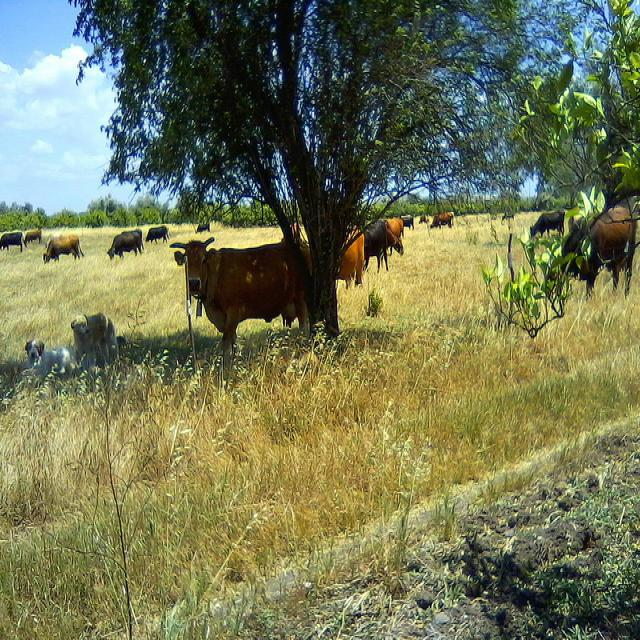cow: (288, 184, 638, 319), (167, 235, 302, 349), (333, 232, 364, 284), (362, 219, 387, 269), (106, 228, 145, 259), (41, 235, 81, 261), (0, 229, 22, 251), (144, 224, 169, 243), (383, 229, 402, 252), (429, 211, 452, 228), (385, 216, 403, 237), (23, 227, 41, 243), (399, 215, 414, 229), (416, 211, 430, 223), (194, 221, 209, 232)
